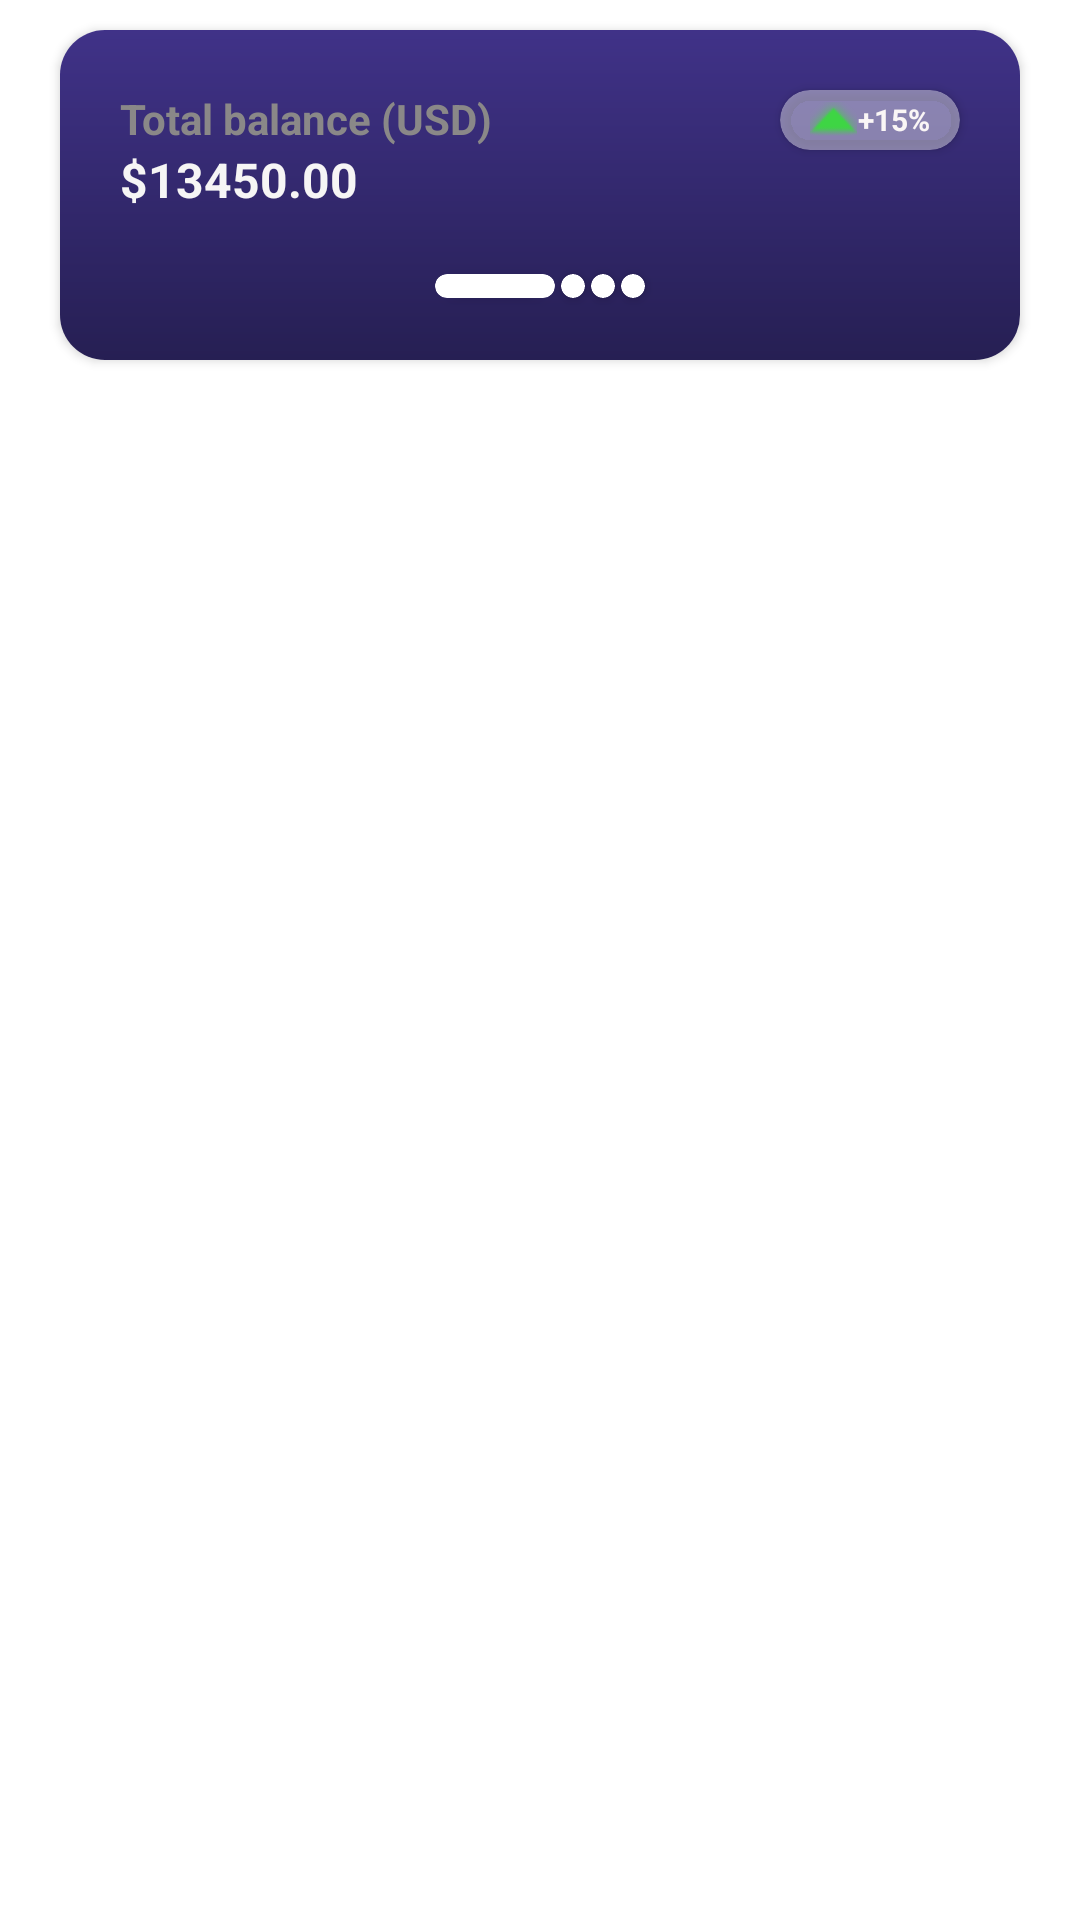

Icons on this 1080px×1920px Android screen, each with its box as (x1, y1, x2, y2):
arrow up float: (810, 107, 857, 134)
